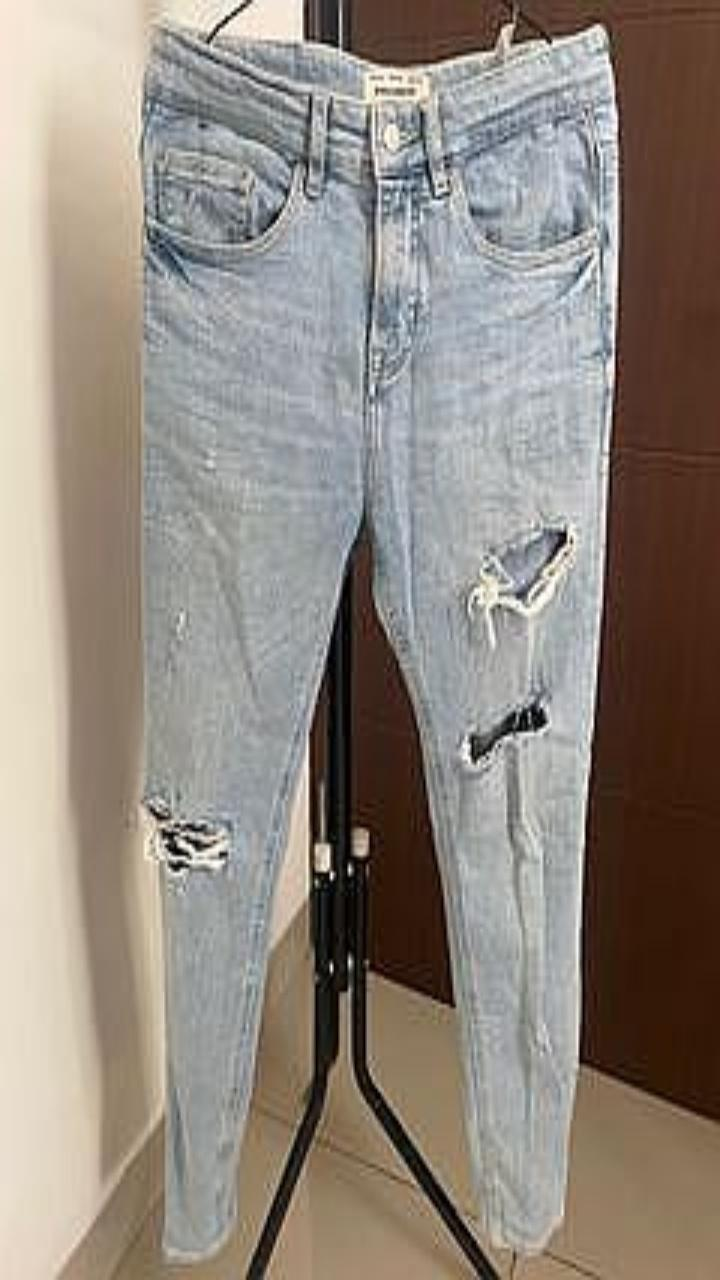Jeans: (138, 20, 619, 1260)
